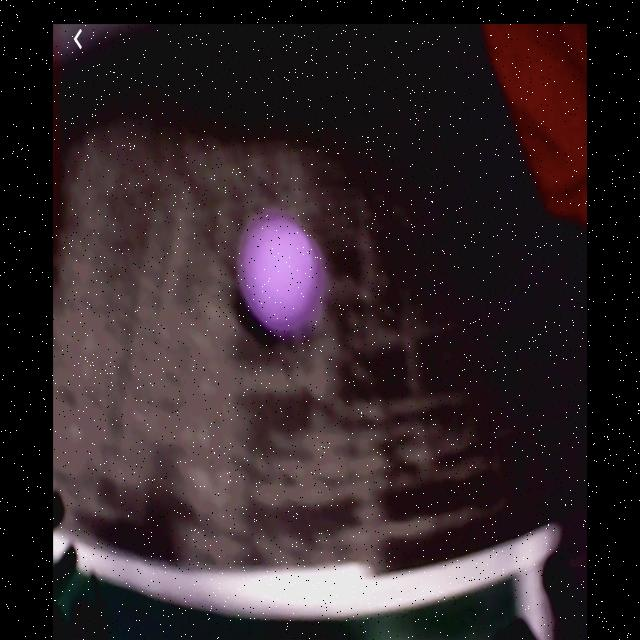ball: (243, 215, 322, 331)
